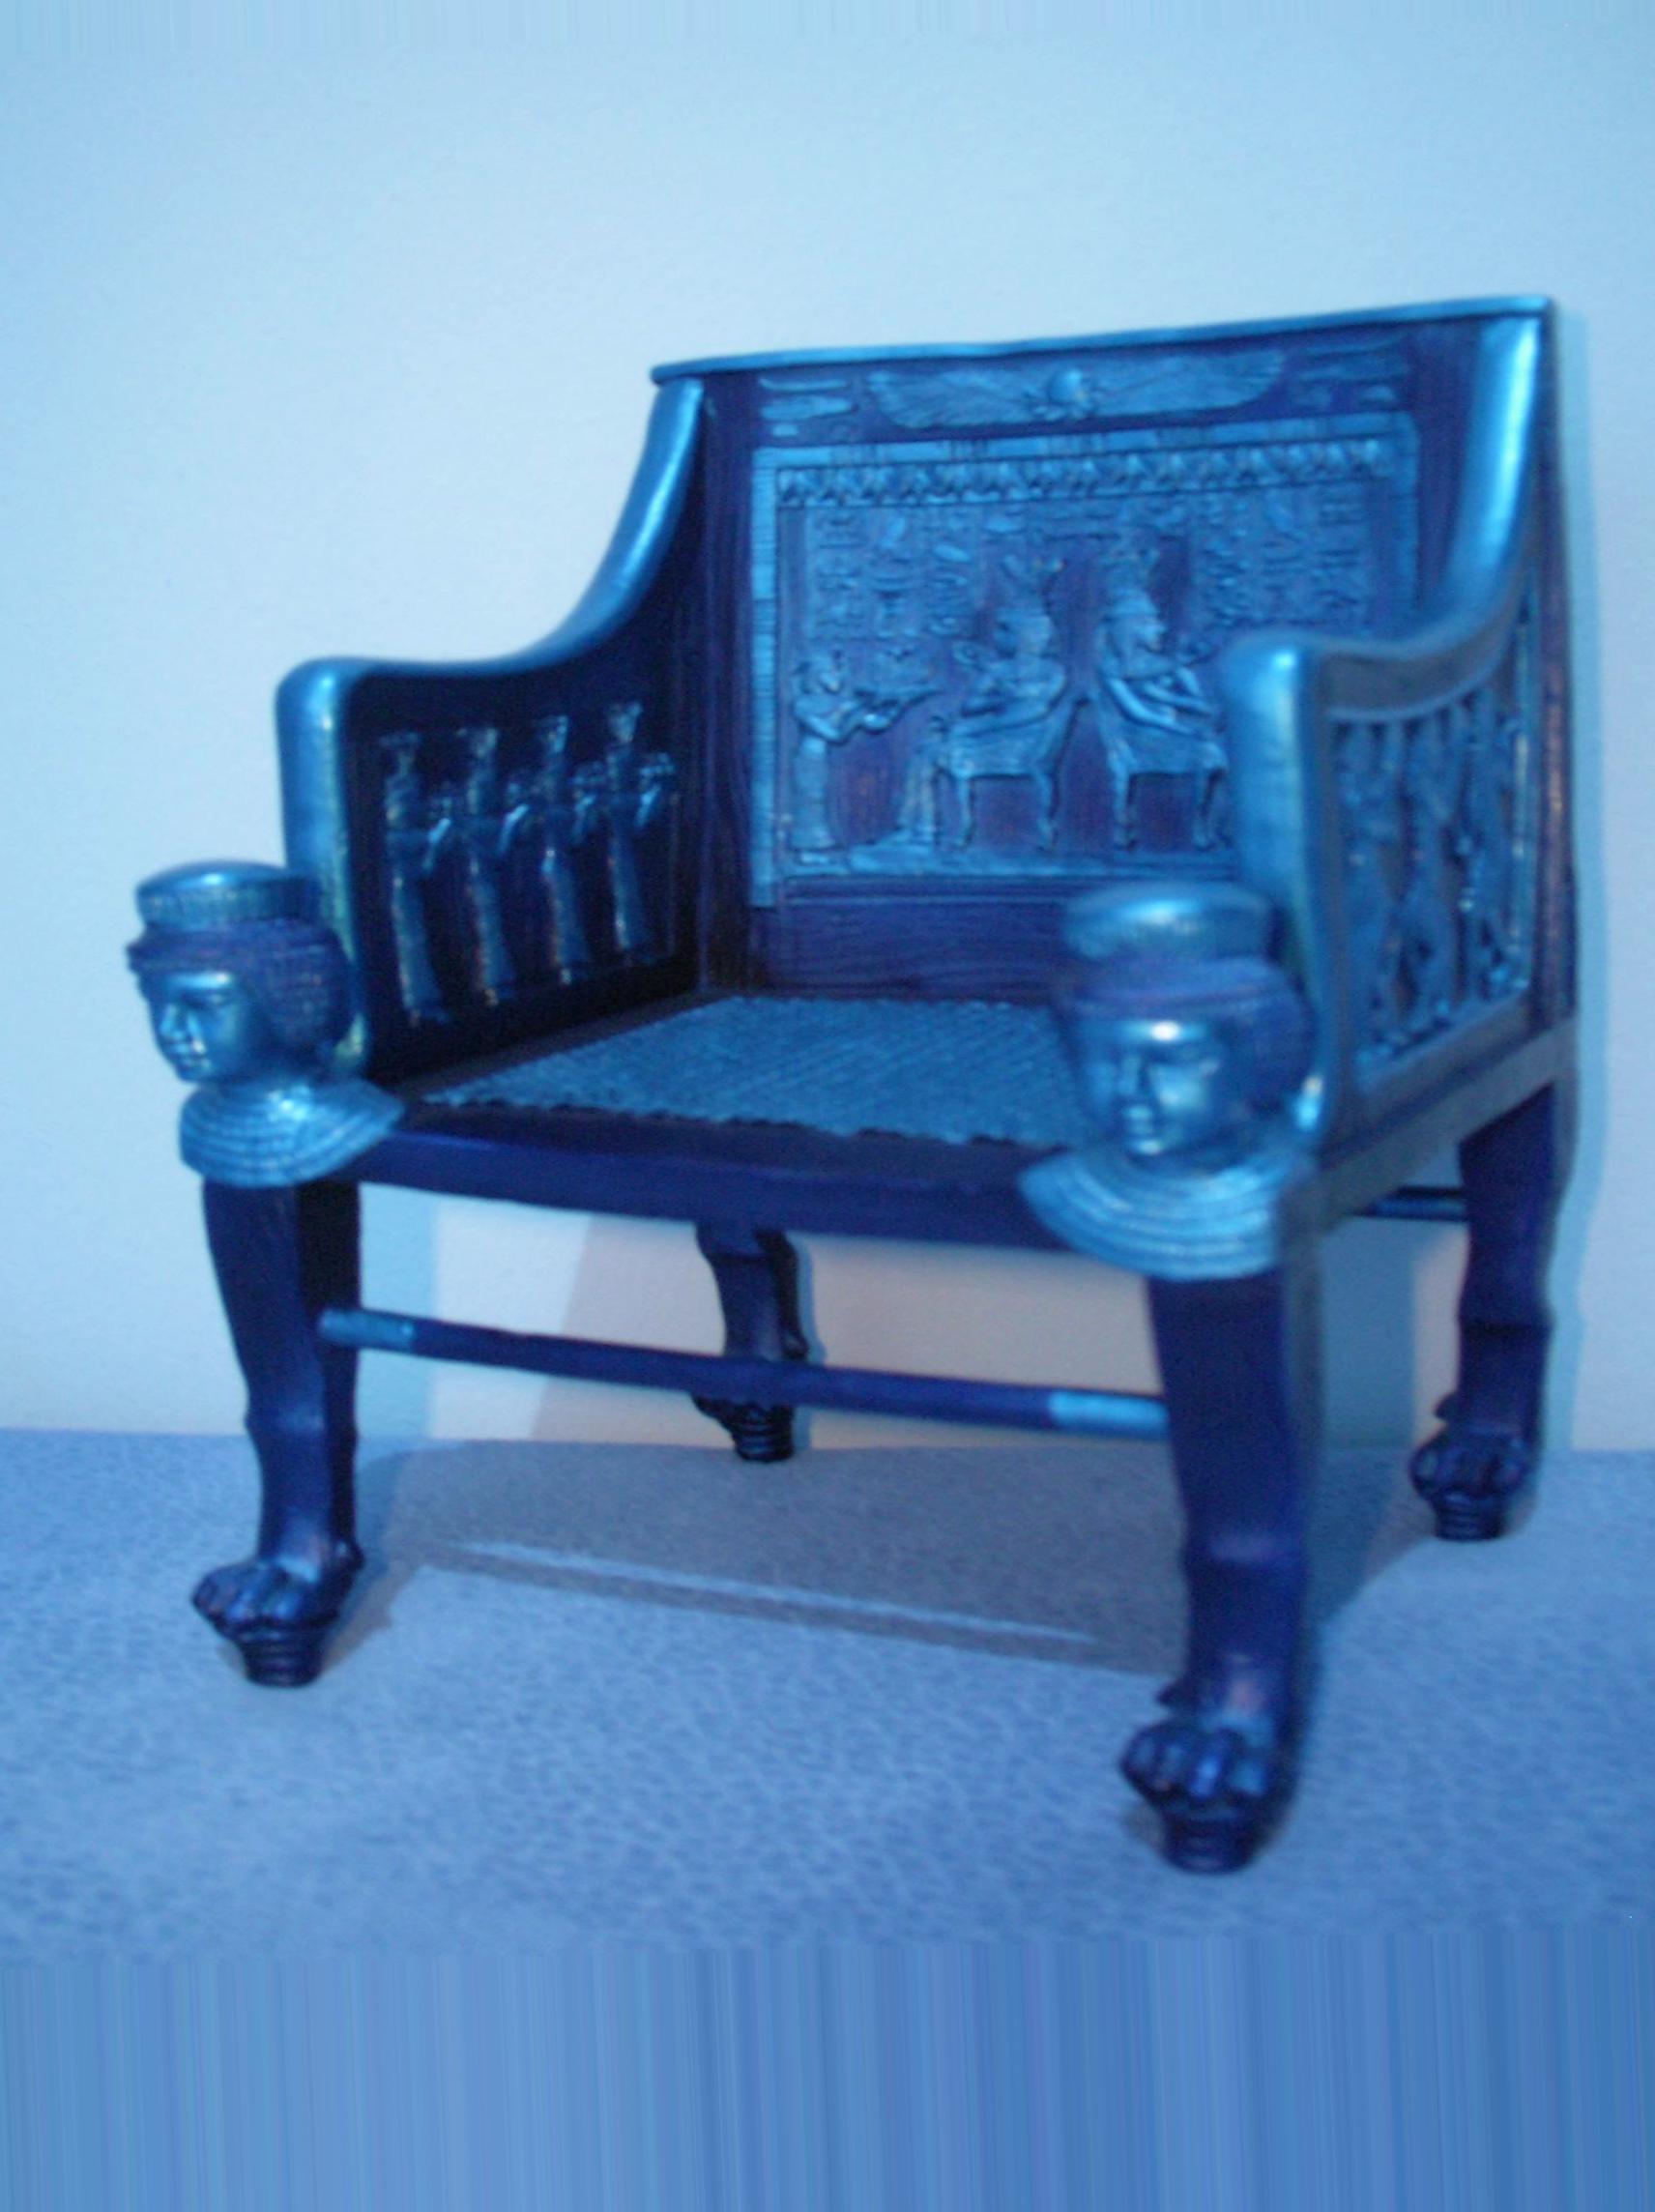chair: (125, 290, 1582, 1882)
